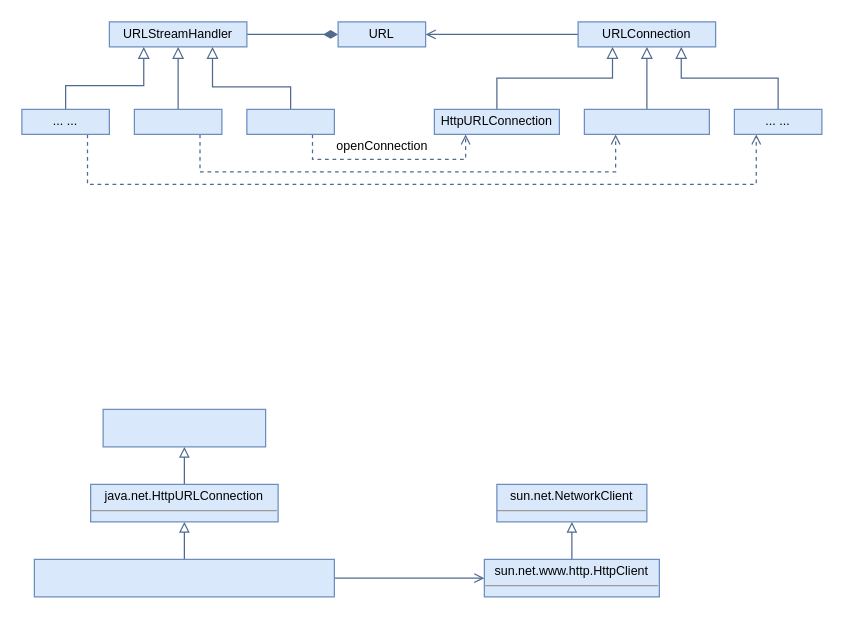
Image size: 844x619. Some labels were removed from this diagram. The shapes that lost their labels are listed below. From the top down, each one's centre as x and y in pixels, then its label:
the point at 177,121: ftp.Handler
the point at 290,121: http.Handler
the point at 646,121: FtpURLConnection
the point at 184,427: java.net.URLConnection
the point at 183,577: sun.net.www.protocol.http.HttpURLConnection
